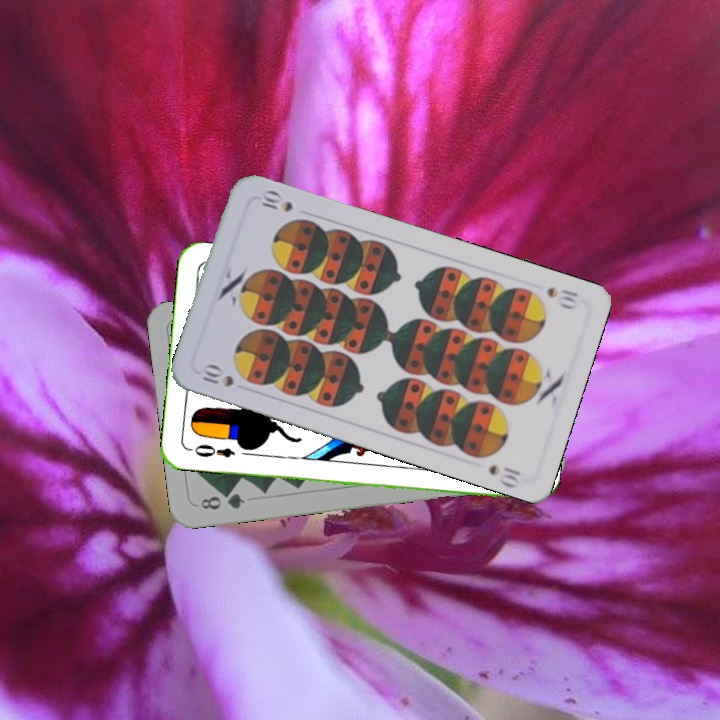EO: (185, 440, 237, 460)
G8: (196, 488, 248, 513)
S10: (196, 360, 237, 390), (543, 283, 581, 312)
